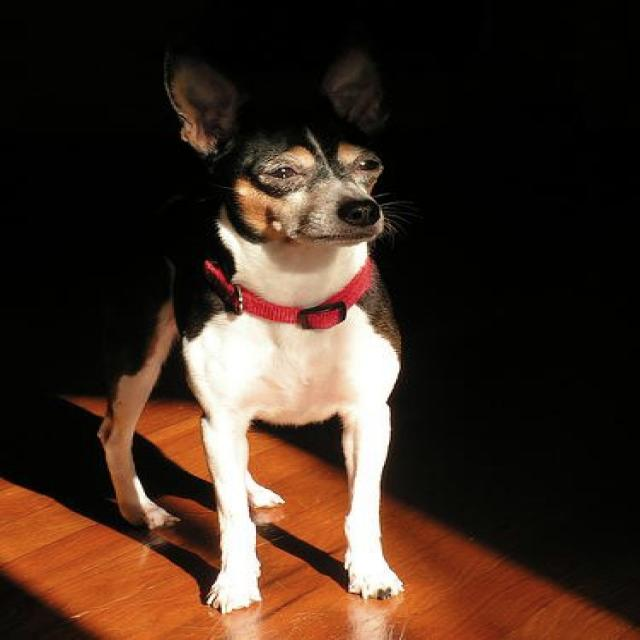toy_terrier: (99, 46, 406, 614)
